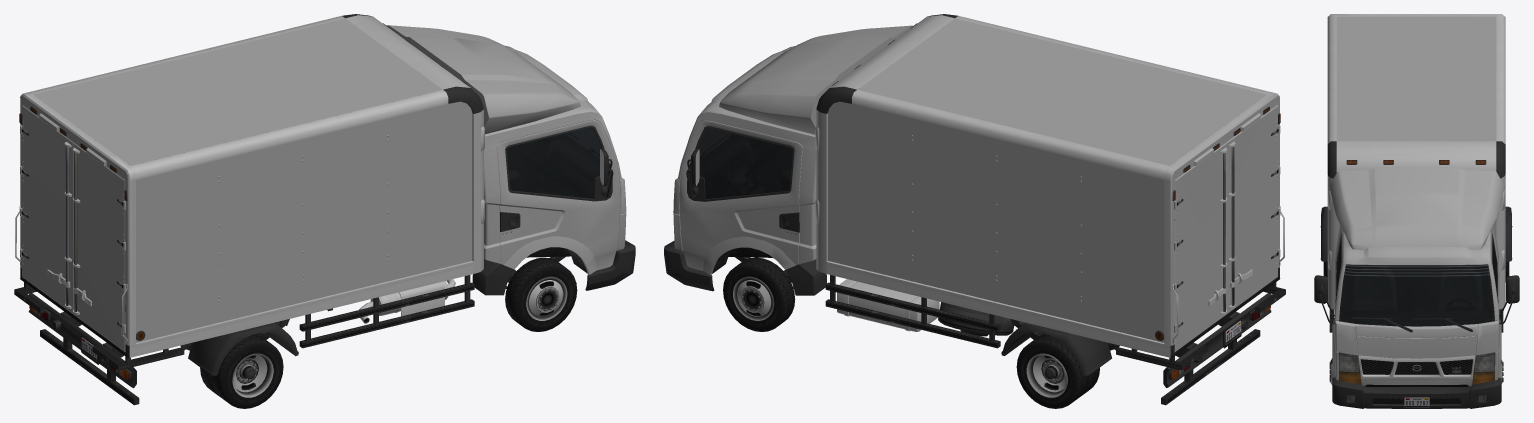
The model's file is truck.glb.
The picture shows the model from 3 angles, left to right: view 1: azimuth 30°, elevation 25°; view 2: azimuth 150°, elevation 25°; view 3: azimuth 270°, elevation 25°; orthographic projection. The views are drawn at different scales.
Visible parts, largest first — view 1: LCT300007_Body_LCT13_07_Bodymat_0, LCT300007_BUMPER_FRONT_UCB_BOTTOM_0, LCT300007_WheelStock_FR_RB1c_Tire_1k_0, LCT300007_Glass_Driver_UCB_Lights_and_Glass_Transperent_0, LCT300007_interior_UCB_Interiors_2_0; view 2: LCT300007_Body_LCT13_07_Bodymat_0, LCT300007_BUMPER_FRONT_UCB_BOTTOM_0, LCT300007_WheelStock_FR_RB1c_Tire_1k_0, LCT300007_Glass_Driver_UCB_Lights_and_Glass_Transperent_0, LCT300007_interior_UCB_Interiors_2_0; view 3: LCT300007_Body_LCT13_07_Bodymat_0, LCT300007_BUMPER_FRONT_UCB_BOTTOM_0, LCT300007_Glass_Driver_UCB_Lights_and_Glass_Transperent_0, LCT300007_interior_UCB_Interiors_2_0, LCT300007_Blinkers_UCB_Lights_and_Glass_0, LCT300007_WheelStock_FR_RB1c_Tire_1k_0, LCT300007_Numberplate_front_Numberplates_Misk_U_0.
Boxes of the visible parts, box(x1,y1,x2,y2) form: LCT300007_Body_LCT13_07_Bodymat_0: box(20, 18, 626, 352); LCT300007_BUMPER_FRONT_UCB_BOTTOM_0: box(14, 14, 635, 405); LCT300007_WheelStock_FR_RB1c_Tire_1k_0: box(200, 257, 577, 408); LCT300007_Glass_Driver_UCB_Lights_and_Glass_Transperent_0: box(29, 128, 601, 379); LCT300007_interior_UCB_Interiors_2_0: box(507, 134, 599, 198); LCT300007_Body_LCT13_07_Bodymat_0: box(673, 18, 1280, 352); LCT300007_BUMPER_FRONT_UCB_BOTTOM_0: box(664, 14, 1285, 405); LCT300007_WheelStock_FR_RB1c_Tire_1k_0: box(723, 257, 1099, 408); LCT300007_Glass_Driver_UCB_Lights_and_Glass_Transperent_0: box(698, 128, 1270, 379); LCT300007_interior_UCB_Interiors_2_0: box(687, 135, 793, 198); LCT300007_Body_LCT13_07_Bodymat_0: box(1329, 16, 1504, 386); LCT300007_BUMPER_FRONT_UCB_BOTTOM_0: box(1314, 14, 1519, 408); LCT300007_Glass_Driver_UCB_Lights_and_Glass_Transperent_0: box(1336, 237, 1497, 384); LCT300007_interior_UCB_Interiors_2_0: box(1337, 244, 1496, 358); LCT300007_Blinkers_UCB_Lights_and_Glass_0: box(1338, 352, 1494, 383); LCT300007_WheelStock_FR_RB1c_Tire_1k_0: box(1323, 261, 1509, 385); LCT300007_Numberplate_front_Numberplates_Misk_U_0: box(1404, 397, 1429, 407).
Bounding box in the file's own units: 5.86 × 2.84 × 2.43.
8 materials, 7 textured.
